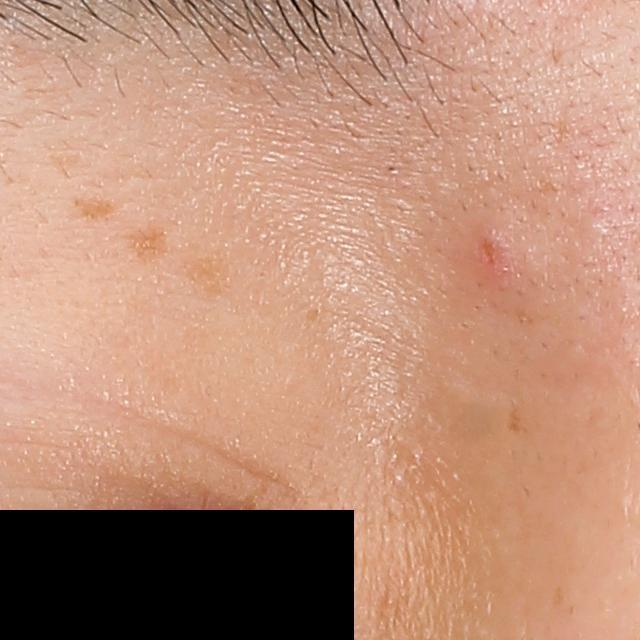melasma: (70, 192, 118, 224), (128, 228, 175, 258), (500, 400, 522, 437), (548, 585, 566, 614)
